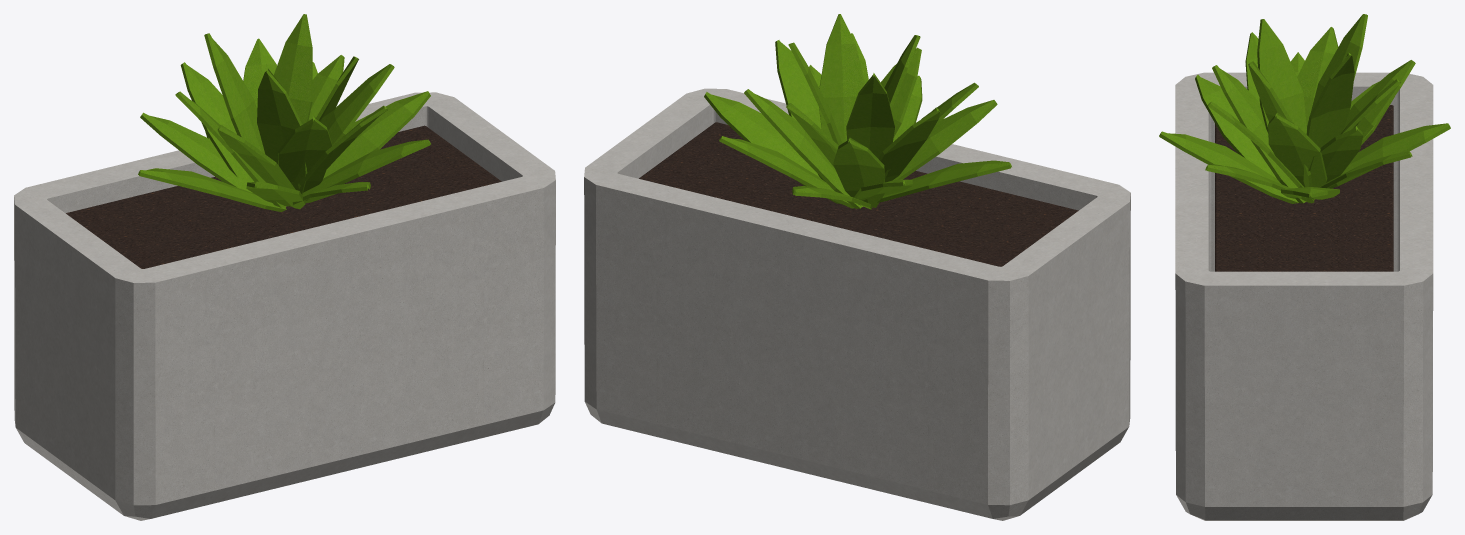
The model's file is studio-guide-planter.glb.
3 views of the same model, side by side, from view 1: azimuth 30°, elevation 25°; view 2: azimuth 150°, elevation 25°; view 3: azimuth 270°, elevation 25° (orthographic).
Visible parts, largest first — view 1: concrete_trough, recessed_soil, leaf_top_02, leaf_top_04, leaf_top_01, leaf_low_07, leaf_mid_04, leaf_low_02, leaf_mid_01, leaf_low_03, leaf_low_06, leaf_mid_06 (+8 smaller); view 2: concrete_trough, recessed_soil, leaf_top_03, leaf_top_01, leaf_low_07, leaf_mid_07, leaf_mid_01, leaf_low_04, leaf_mid_06, leaf_mid_02, leaf_low_08, leaf_low_03 (+7 smaller); view 3: concrete_trough, recessed_soil, leaf_top_02, leaf_top_04, leaf_mid_06, leaf_low_05, leaf_mid_04, leaf_low_04, leaf_low_01, leaf_mid_02, leaf_mid_01, leaf_mid_07 (+8 smaller).
Boxes of the visible parts, box(x1,y1,x2,y2) form: concrete_trough: box(14, 92, 555, 520); recessed_soil: box(66, 125, 501, 268); leaf_top_02: box(257, 68, 307, 194); leaf_top_04: box(273, 14, 312, 124); leaf_top_01: box(204, 33, 264, 153); leaf_low_07: box(323, 91, 430, 178); leaf_mid_04: box(278, 116, 333, 192); leaf_low_02: box(140, 112, 252, 192); leaf_mid_01: box(180, 62, 253, 181); leaf_low_03: box(138, 168, 286, 211); leaf_low_06: box(302, 139, 430, 200); leaf_mid_06: box(327, 64, 394, 145); concrete_trough: box(584, 88, 1130, 520); recessed_soil: box(639, 122, 1078, 266); leaf_top_03: box(819, 14, 864, 143); leaf_top_01: box(846, 73, 894, 178); leaf_low_07: box(704, 92, 840, 203); leaf_mid_07: box(744, 89, 863, 208); leaf_mid_01: box(833, 137, 884, 207); leaf_low_04: box(893, 100, 997, 180); leaf_mid_06: box(775, 40, 842, 204); leaf_mid_02: box(879, 107, 939, 182); leaf_low_08: box(719, 136, 854, 208); leaf_low_03: box(877, 160, 1011, 202); concrete_trough: box(1175, 72, 1433, 520); recessed_soil: box(1215, 105, 1393, 271); leaf_top_02: box(1257, 19, 1306, 134); leaf_top_04: box(1306, 53, 1354, 147); leaf_mid_06: box(1268, 112, 1327, 187); leaf_low_05: box(1159, 131, 1298, 203); leaf_mid_04: box(1212, 65, 1306, 203); leaf_low_04: box(1195, 75, 1276, 178); leaf_low_01: box(1328, 123, 1450, 188); leaf_mid_02: box(1297, 27, 1338, 126); leaf_mid_01: box(1343, 60, 1415, 139); leaf_mid_07: box(1308, 126, 1363, 182).
Size of the model in its own units: 0.8179 by 0.7049 by 0.4732.
Materials: 3 (3 with a texture image).
